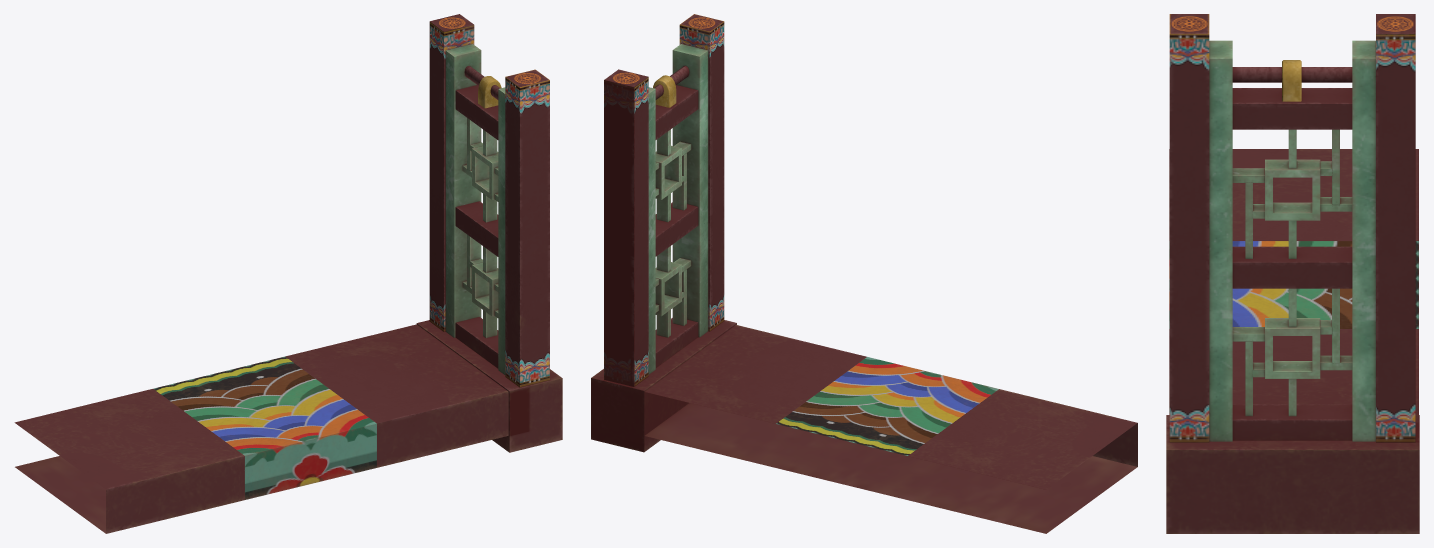
The model's file is stairs_001.fbx.
The picture shows the model from 3 angles, left to right: view 1: azimuth 30°, elevation 25°; view 2: azimuth 150°, elevation 25°; view 3: azimuth 270°, elevation 25°; orthographic projection. The views are drawn at different scales.
Visible parts, largest first — view 1: stairs_001; view 2: stairs_001; view 3: stairs_001.
Boxes of the visible parts, <box> form: stairs_001: <box>14,14,562,533</box>; stairs_001: <box>591,14,1137,533</box>; stairs_001: <box>1166,14,1419,533</box>.
Size of the model in its own units: 181 by 137 by 64.
